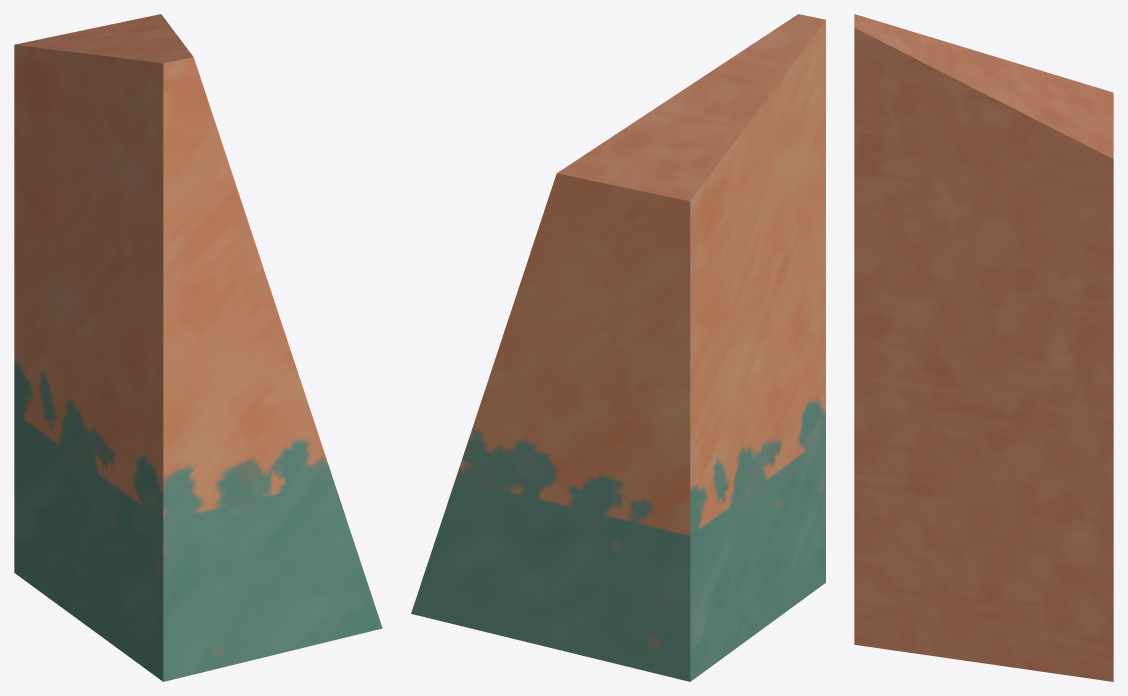
Rendered from townwall_s08.fbx.
3 views of the same model, side by side, from view 1: azimuth 30°, elevation 25°; view 2: azimuth 150°, elevation 25°; view 3: azimuth 270°, elevation 25° (orthographic). The views are drawn at different scales.
Parts seen in each view (by area): view 1: townwall_s08; view 2: townwall_s08; view 3: townwall_s08.
Boxes of the visible parts, x1,y1,x2,y2 form: townwall_s08: (14, 14, 382, 681); townwall_s08: (411, 14, 825, 681); townwall_s08: (854, 14, 1113, 681).
Size of the model in its own units: 3.57 by 6.87 by 3.
